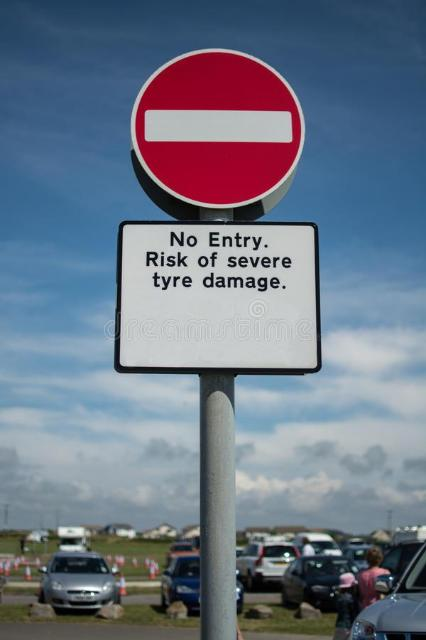B2: (129, 46, 306, 212)
